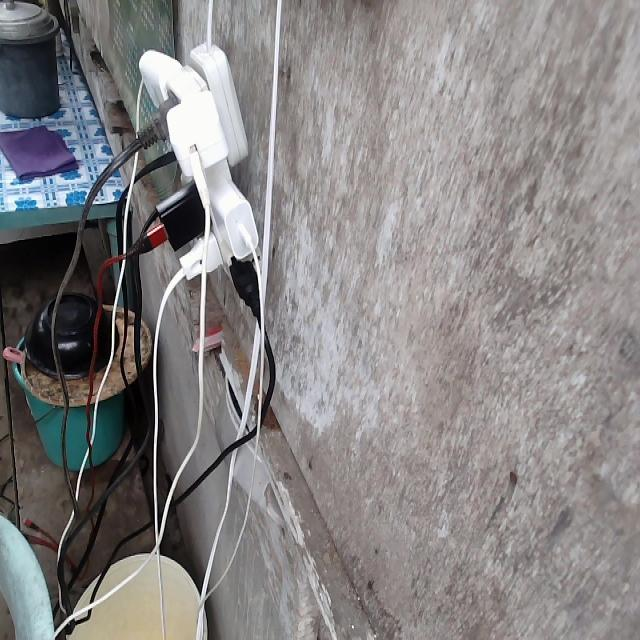-: (130, 40, 263, 320)
